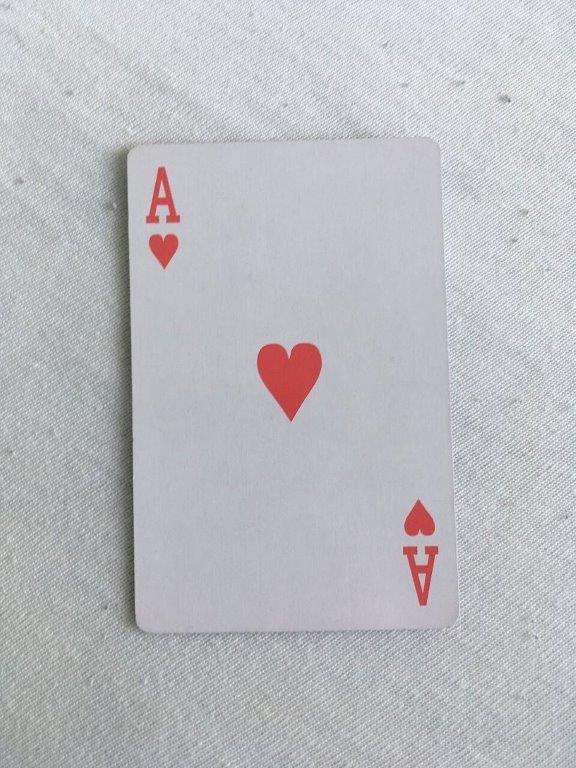AH: (122, 135, 463, 636)
